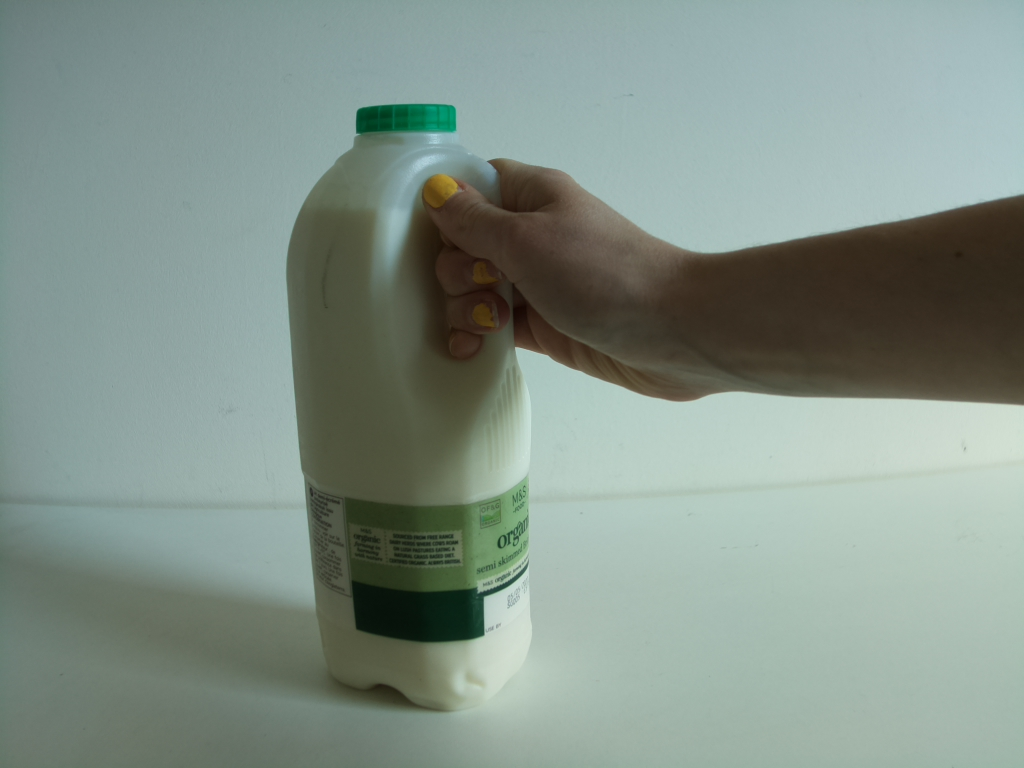milk: (277, 96, 540, 712)
